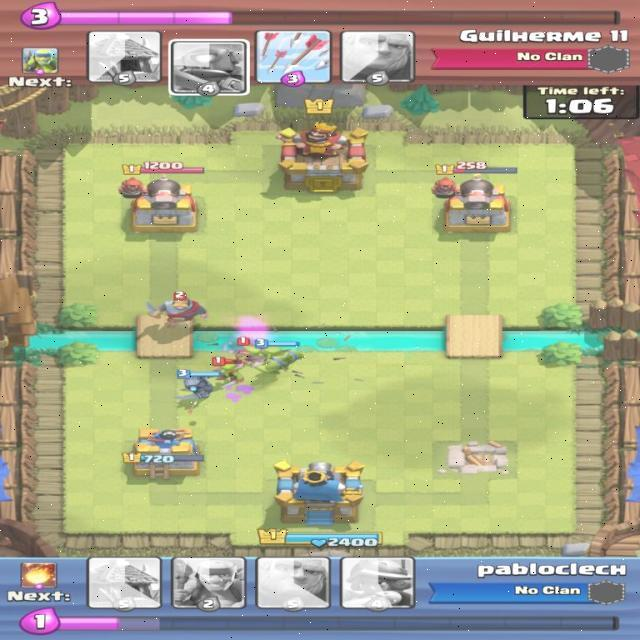ECannoneerTower: (432, 177, 510, 232), (131, 178, 197, 232)
EGoblin: (213, 357, 249, 390)
EKingTower: (279, 123, 367, 192)
EKnight: (147, 291, 206, 328)
OBrawler: (258, 348, 303, 373)
OMiniPekka: (177, 370, 219, 406)
OwnKingTower: (274, 462, 362, 525)
OwnPrincessTower: (125, 429, 202, 477)
TowerDown: (436, 441, 513, 476)
